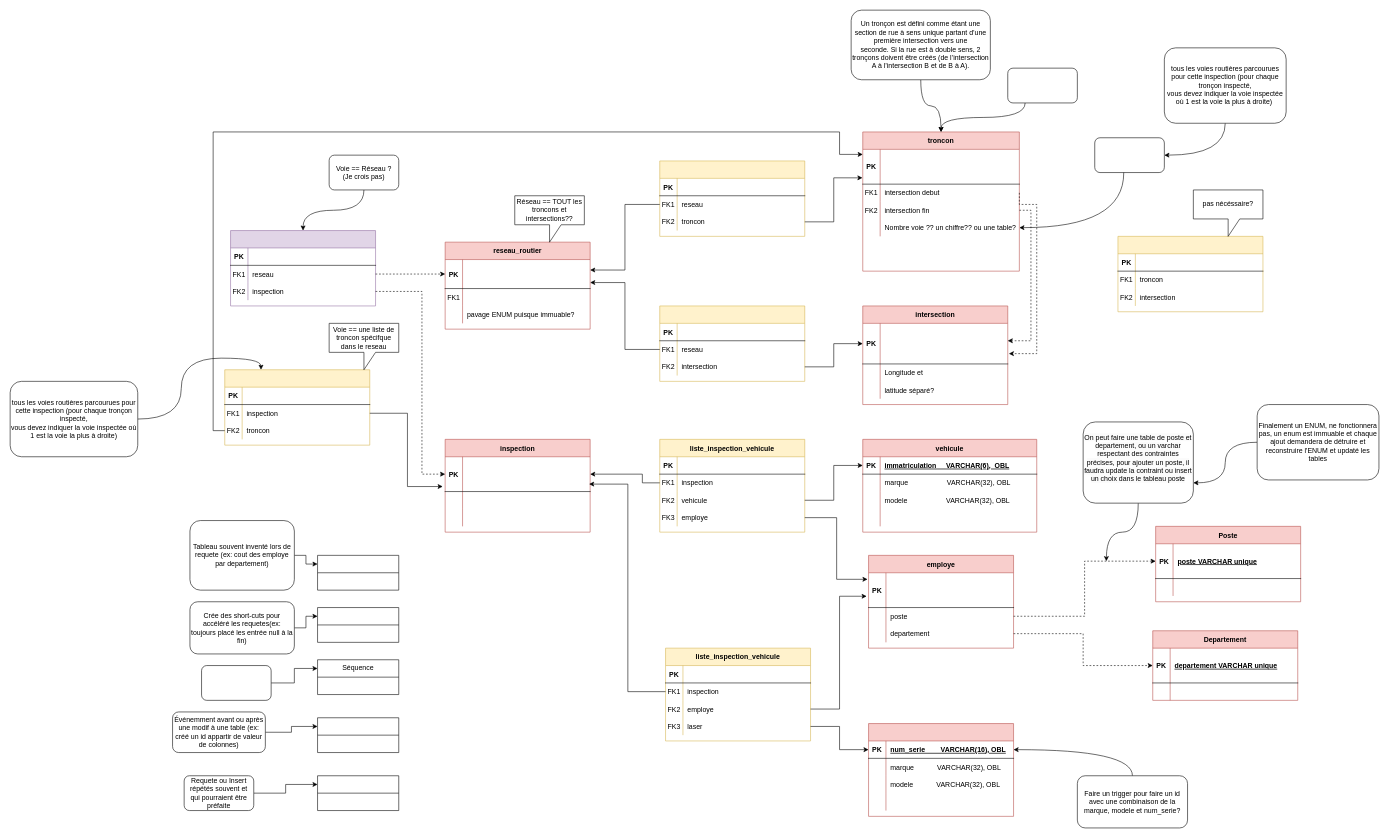
Some shapes in this 1389 by 838 pixel diagram are drawn without their labels. Here are the shapes that lost their labels. From the top down, the box of each, then its label:
(1007, 68, 1077, 103): Lien à un intersection de depart et de fin?
(1094, 137, 1164, 173): nombre de voies nombre variant entre 1 à 8, obligatoire, défaut 1
(659, 160, 805, 236): liste_reseau_troncon
(230, 230, 376, 306): liste_inspection_reseau ?
(1117, 236, 1263, 312): liste_intersection_troncon
(659, 305, 805, 381): liste_reseau_intersection
(224, 369, 370, 445): liste_inspection_troncon (voie)
(317, 555, 399, 590): Vue
(317, 607, 399, 642): Index
(201, 665, 271, 700): Serial personnalisé
(317, 717, 399, 753): Trigger
(868, 723, 1014, 816): profileur_laser
(317, 775, 399, 811): Fonctions
